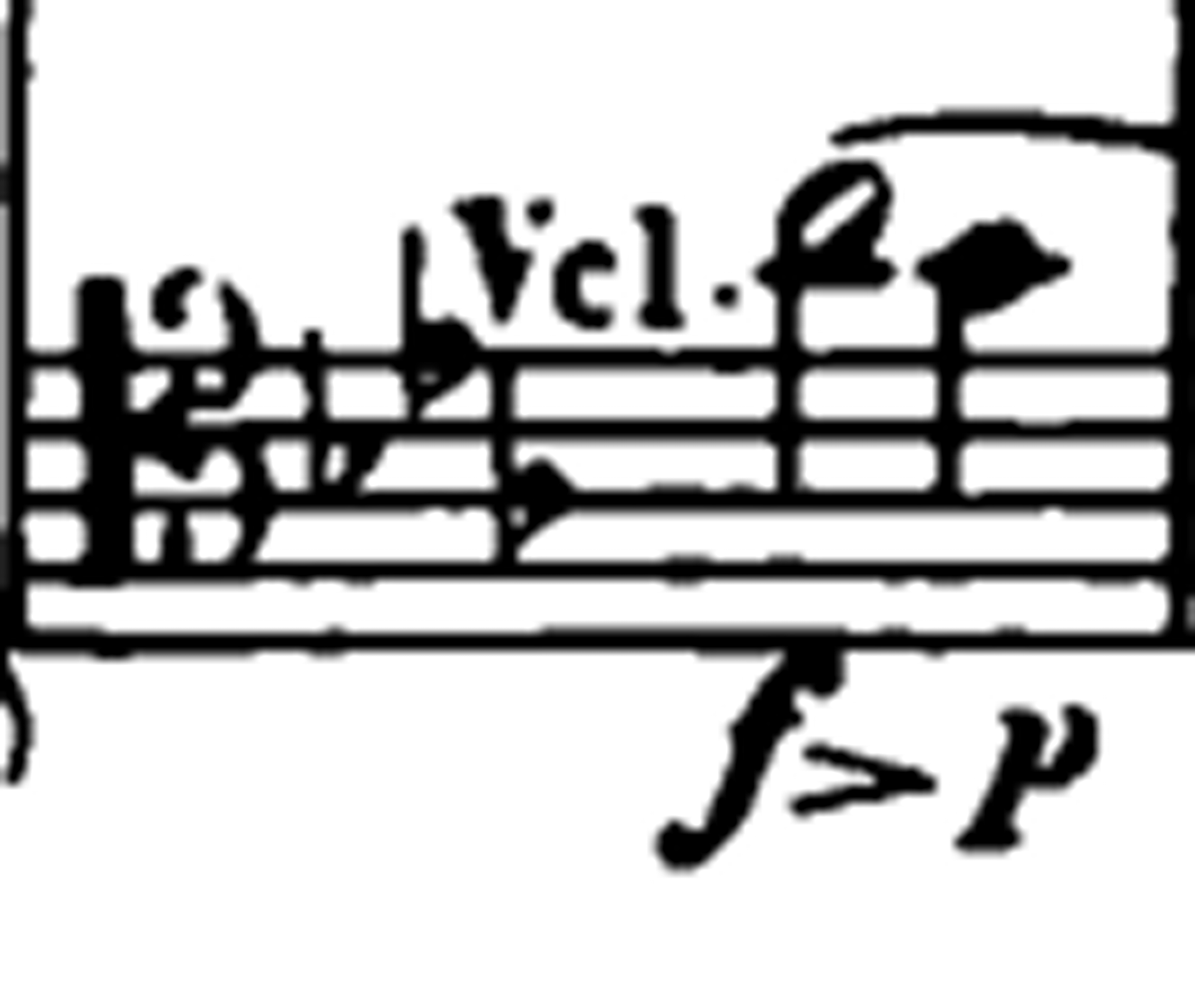beam: (778, 160, 893, 284), (742, 622, 844, 737), (918, 222, 1030, 282)
clefCTenor: (44, 240, 292, 605)
noteheadBlackInSpace: (80, 277, 122, 306), (0, 593, 25, 629)
restHBar: (19, 393, 881, 467), (105, 397, 1000, 456), (242, 330, 1092, 390), (0, 541, 851, 600), (317, 468, 1195, 525), (135, 614, 1030, 665), (0, 614, 851, 666), (150, 467, 880, 524), (354, 329, 945, 392), (831, 101, 1195, 155)
